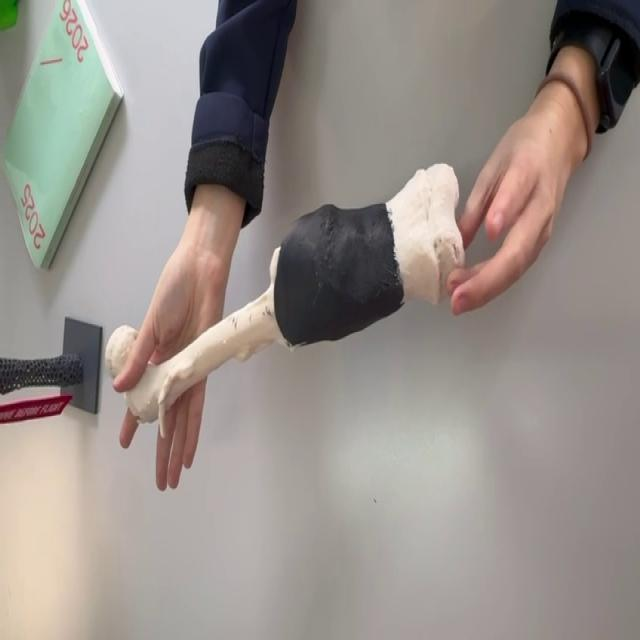bones: (125, 163, 464, 435)
